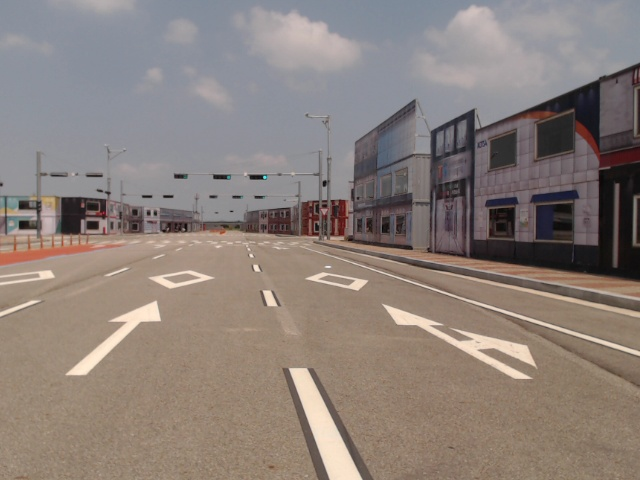straight_green_4: (213, 173, 232, 180), (248, 174, 267, 180)
